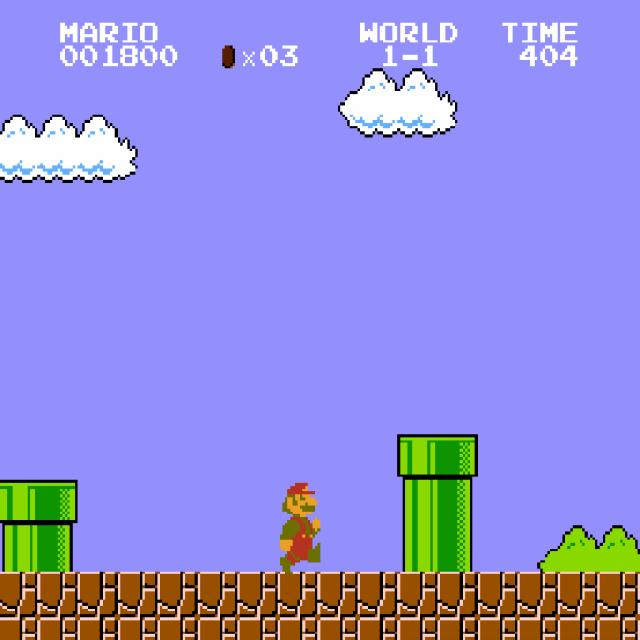big_mario: (277, 486, 320, 580)
pipe: (397, 480, 438, 526), (437, 480, 478, 526), (37, 526, 78, 571), (397, 526, 438, 571), (437, 526, 478, 571), (0, 526, 37, 571)
pipe_head: (37, 480, 78, 526), (397, 434, 438, 480), (437, 434, 478, 480), (0, 480, 37, 526)
undestructible_block: (37, 572, 78, 617), (77, 572, 118, 617), (117, 572, 158, 617), (157, 572, 198, 617), (197, 572, 238, 617), (237, 572, 278, 617), (277, 572, 318, 617), (317, 572, 358, 617), (357, 572, 398, 617), (397, 572, 438, 617), (437, 572, 478, 617), (477, 572, 518, 617), (517, 572, 558, 617), (557, 572, 598, 617), (597, 572, 638, 617), (0, 572, 37, 617), (37, 617, 78, 640), (77, 617, 118, 640), (117, 617, 158, 640), (157, 617, 198, 640), (197, 617, 238, 640), (237, 617, 278, 640), (277, 617, 318, 640), (317, 617, 358, 640), (357, 617, 398, 640), (397, 617, 438, 640), (437, 617, 478, 640), (477, 617, 518, 640), (517, 617, 558, 640), (557, 617, 598, 640), (597, 617, 638, 640), (0, 617, 37, 640), (637, 571, 640, 617), (637, 617, 640, 639)
